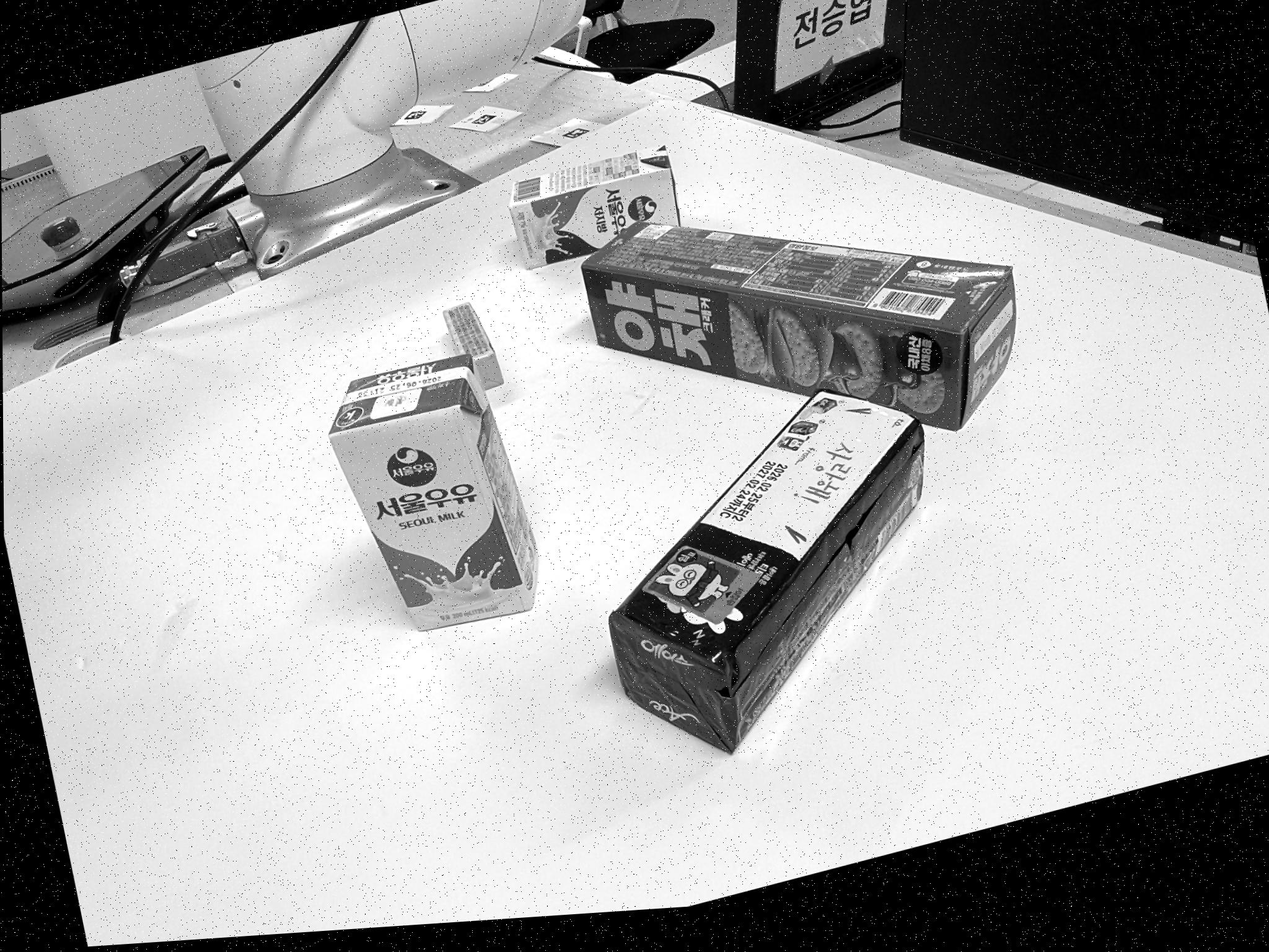cracker_ace: (609, 390, 924, 752)
cracker_vege: (581, 223, 1015, 431)
gum_yellow: (443, 303, 502, 389)
milk_blue: (509, 147, 679, 268)
milk_green: (329, 356, 535, 630)
